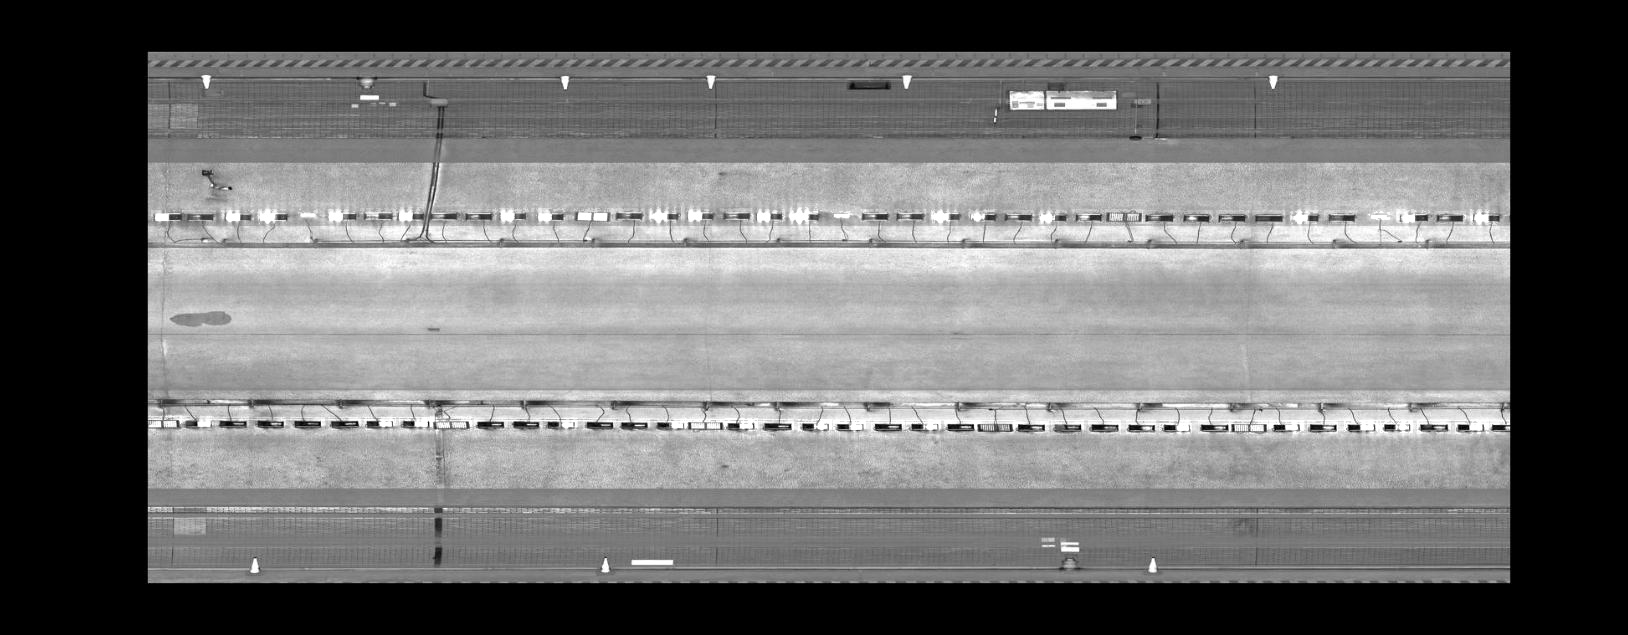light: (572, 208, 613, 224), (430, 416, 472, 431), (1105, 209, 1143, 224), (495, 208, 530, 224), (531, 208, 565, 224), (788, 208, 822, 224), (973, 420, 1015, 433), (1229, 420, 1268, 434), (256, 209, 290, 224), (649, 208, 682, 223), (1470, 209, 1501, 225), (148, 415, 182, 431), (1142, 210, 1177, 224), (1396, 209, 1432, 223), (1178, 210, 1213, 224), (685, 419, 725, 432), (752, 209, 785, 223), (1216, 210, 1249, 224), (1252, 210, 1285, 224), (1324, 210, 1357, 224), (1051, 420, 1084, 435), (1269, 420, 1304, 434), (613, 208, 645, 222), (720, 208, 752, 222), (1037, 210, 1069, 224), (1071, 209, 1104, 223), (1288, 210, 1321, 224), (394, 208, 428, 221), (1417, 420, 1451, 434), (1455, 420, 1489, 434), (931, 209, 962, 223), (1088, 420, 1121, 434), (1159, 420, 1192, 434), (180, 416, 215, 429), (894, 209, 926, 222), (1434, 211, 1466, 224), (1198, 420, 1230, 434), (182, 210, 216, 222), (326, 209, 360, 221), (1344, 420, 1378, 433), (685, 209, 716, 222), (859, 209, 890, 222), (967, 209, 998, 222), (1307, 420, 1338, 434), (151, 210, 184, 222), (221, 210, 254, 222), (360, 208, 394, 220), (462, 209, 495, 221), (328, 417, 361, 430), (725, 418, 758, 431), (761, 419, 794, 432), (798, 419, 832, 432), (1380, 420, 1413, 433), (290, 417, 325, 429), (1127, 420, 1156, 434), (215, 417, 249, 429), (509, 418, 543, 430), (544, 418, 578, 430), (584, 418, 618, 430), (871, 420, 905, 432), (906, 420, 941, 432), (1003, 210, 1034, 222), (364, 417, 396, 430), (428, 210, 461, 221), (474, 418, 508, 430), (833, 420, 866, 432), (944, 420, 977, 432), (399, 417, 431, 429), (254, 417, 286, 429), (1014, 421, 1049, 432), (618, 419, 650, 430), (654, 419, 686, 430), (1367, 211, 1390, 220), (1490, 420, 1510, 431), (831, 211, 852, 219), (295, 209, 318, 216)
